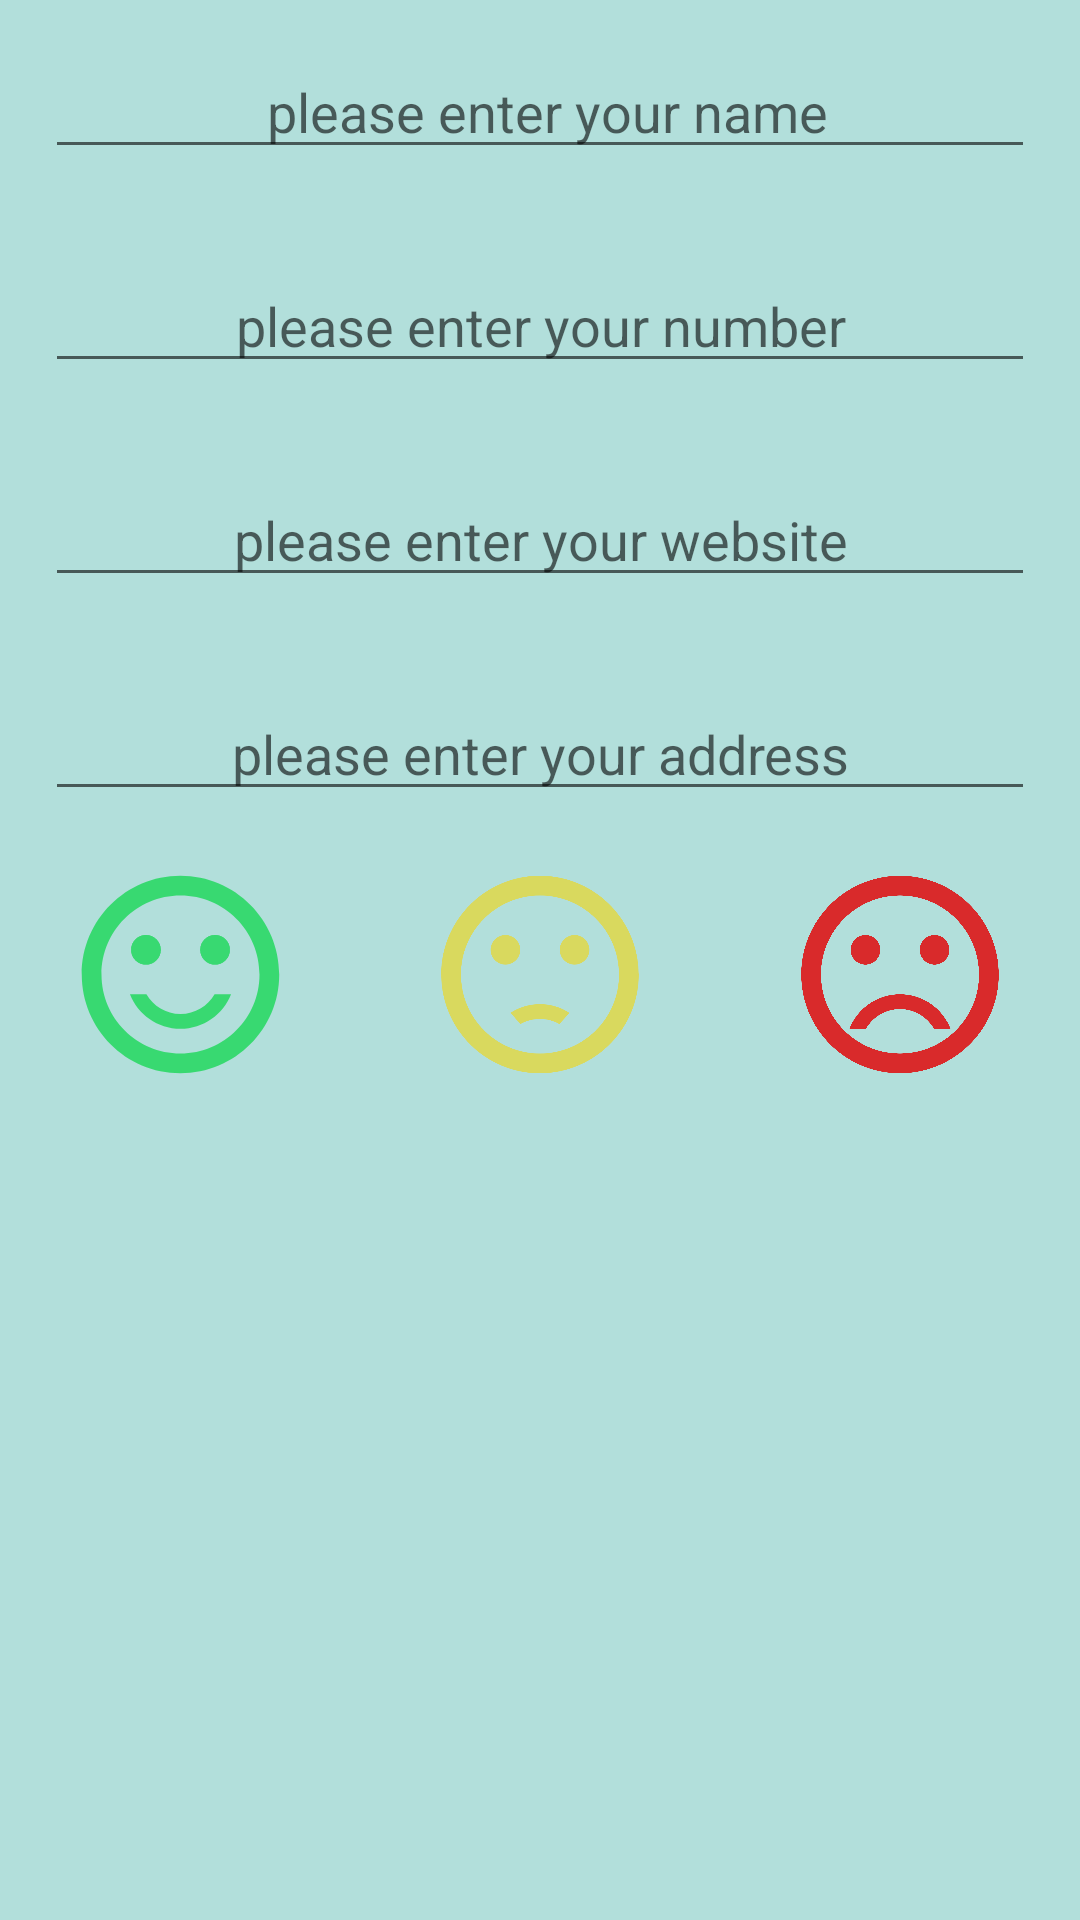

Screen size 1080px×1920px. Icon name, then its box in pixels as [x1, y1, x2, y2]:
sentiment dissatisfied: [441, 876, 639, 1073]
sentiment satisfied: [81, 875, 280, 1074]
sentiment very dissatisfied: [801, 876, 999, 1073]
